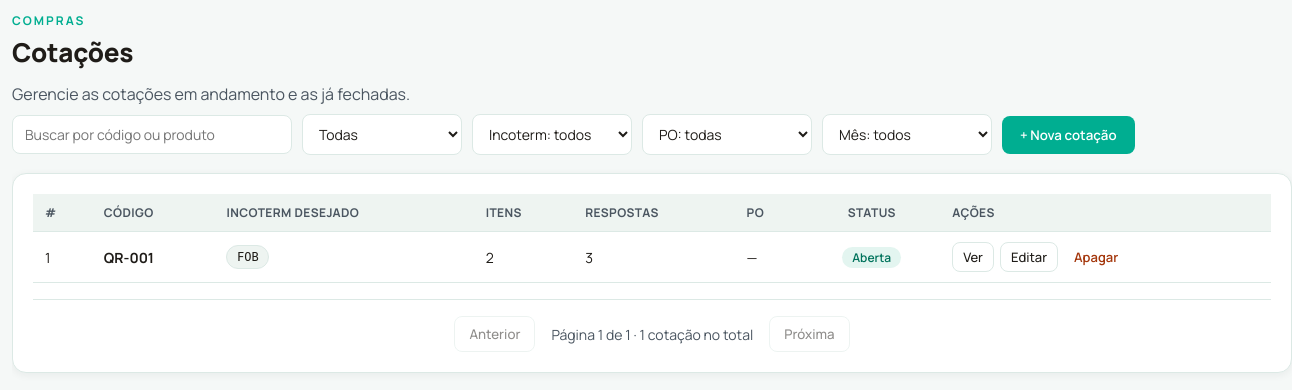
Cotacoes - filtro de mês › sem resultados com filtro ativo sugere ajustar os filtros
Expected: the text "QR-001" is shown, x1=104 y1=248 x2=154 y2=266
Select "Mês: set/2026" in the dropdown named "Filtro de mês": (907, 134) x1=822 y1=114 x2=992 y2=155
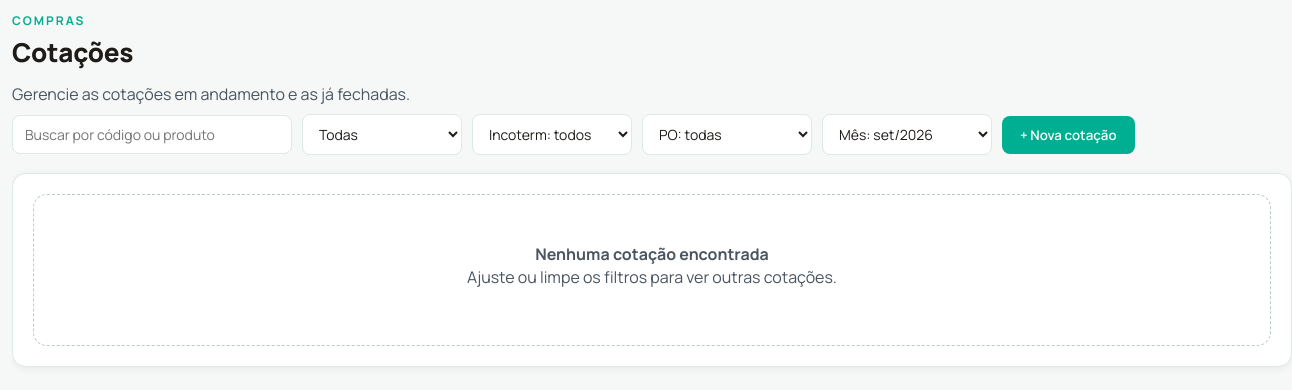
Now the text "Ajuste ou limpe os filtros para ver outras cotações." is shown, box x1=467 y1=266 x2=837 y2=288
